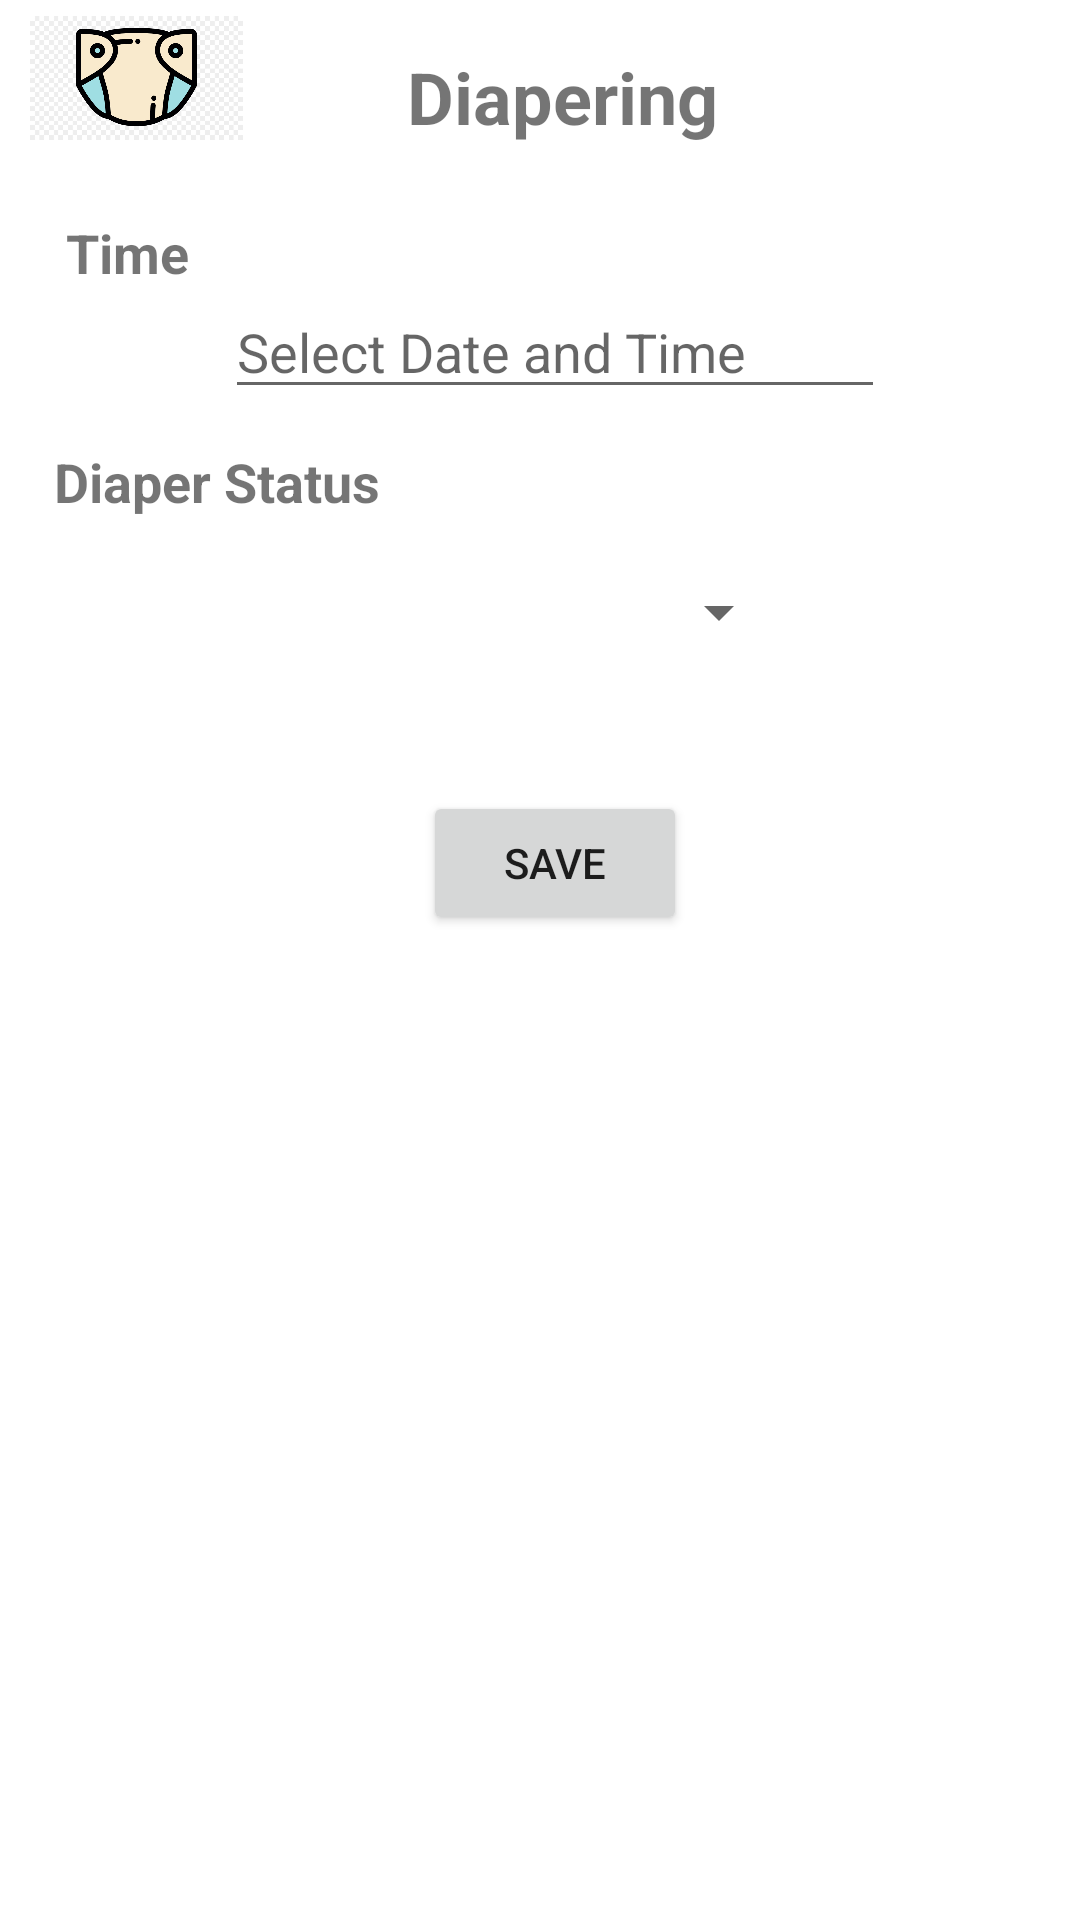

Icon click points for this 1080×1920 phone screenshot, format (x=x, y=y):
diaper icon: (x=136, y=77)
